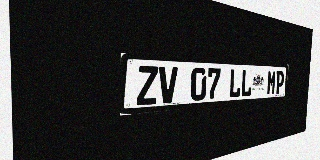0: (190, 67, 207, 101)
7: (206, 68, 221, 100)
L: (229, 69, 241, 98), (241, 69, 252, 97)
M: (266, 70, 276, 95)
P: (275, 70, 284, 94)
V: (158, 66, 178, 104)
Z: (136, 65, 158, 105)
